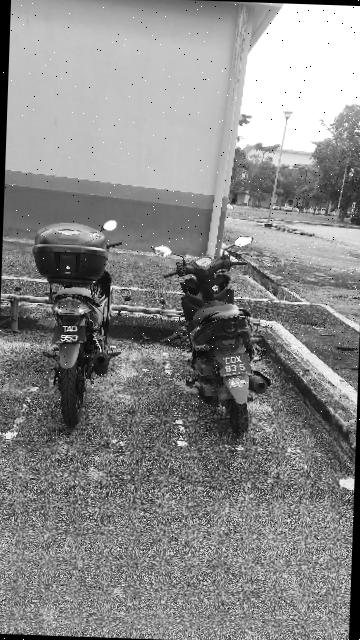License_Plate: (214, 352, 258, 380), (54, 323, 92, 348)
motorcycle: (146, 234, 278, 436), (29, 211, 128, 429)
